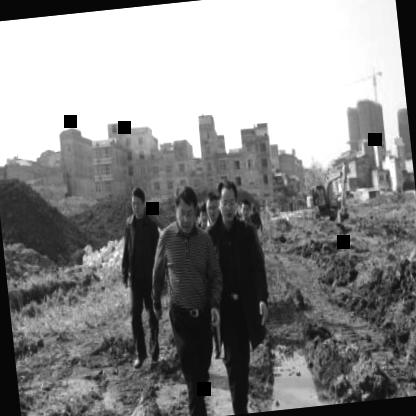head: (166, 178, 203, 240), (214, 178, 239, 224), (127, 184, 148, 222), (202, 186, 221, 226), (236, 195, 254, 227)
